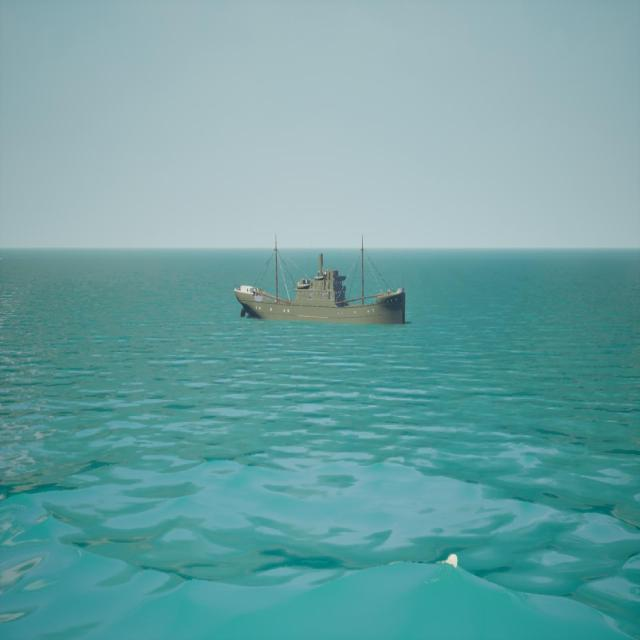fishing ship: (234, 233, 408, 325)
